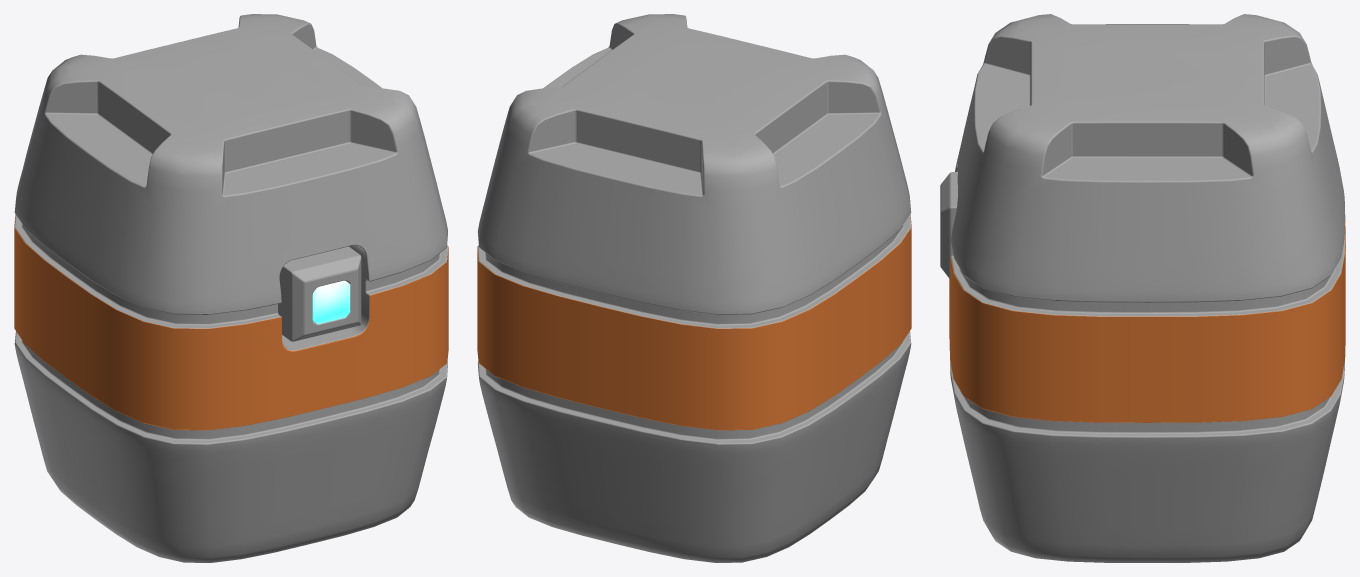
Rendered from crate_textures.gltf.
The picture shows the model from 3 angles, left to right: view 1: azimuth 30°, elevation 25°; view 2: azimuth 150°, elevation 25°; view 3: azimuth 270°, elevation 25°; orthographic projection. The views are drawn at different scales.
Parts seen in each view (by area): view 1: crate.003; view 2: crate.003; view 3: crate.003.
Part boxes in pixels (bbox=[...]): crate.003: bbox=[14, 14, 448, 562]; crate.003: bbox=[477, 14, 911, 562]; crate.003: bbox=[940, 14, 1345, 562].
Bounding box in the file's own units: 1.3 × 1.55 × 1.33.
